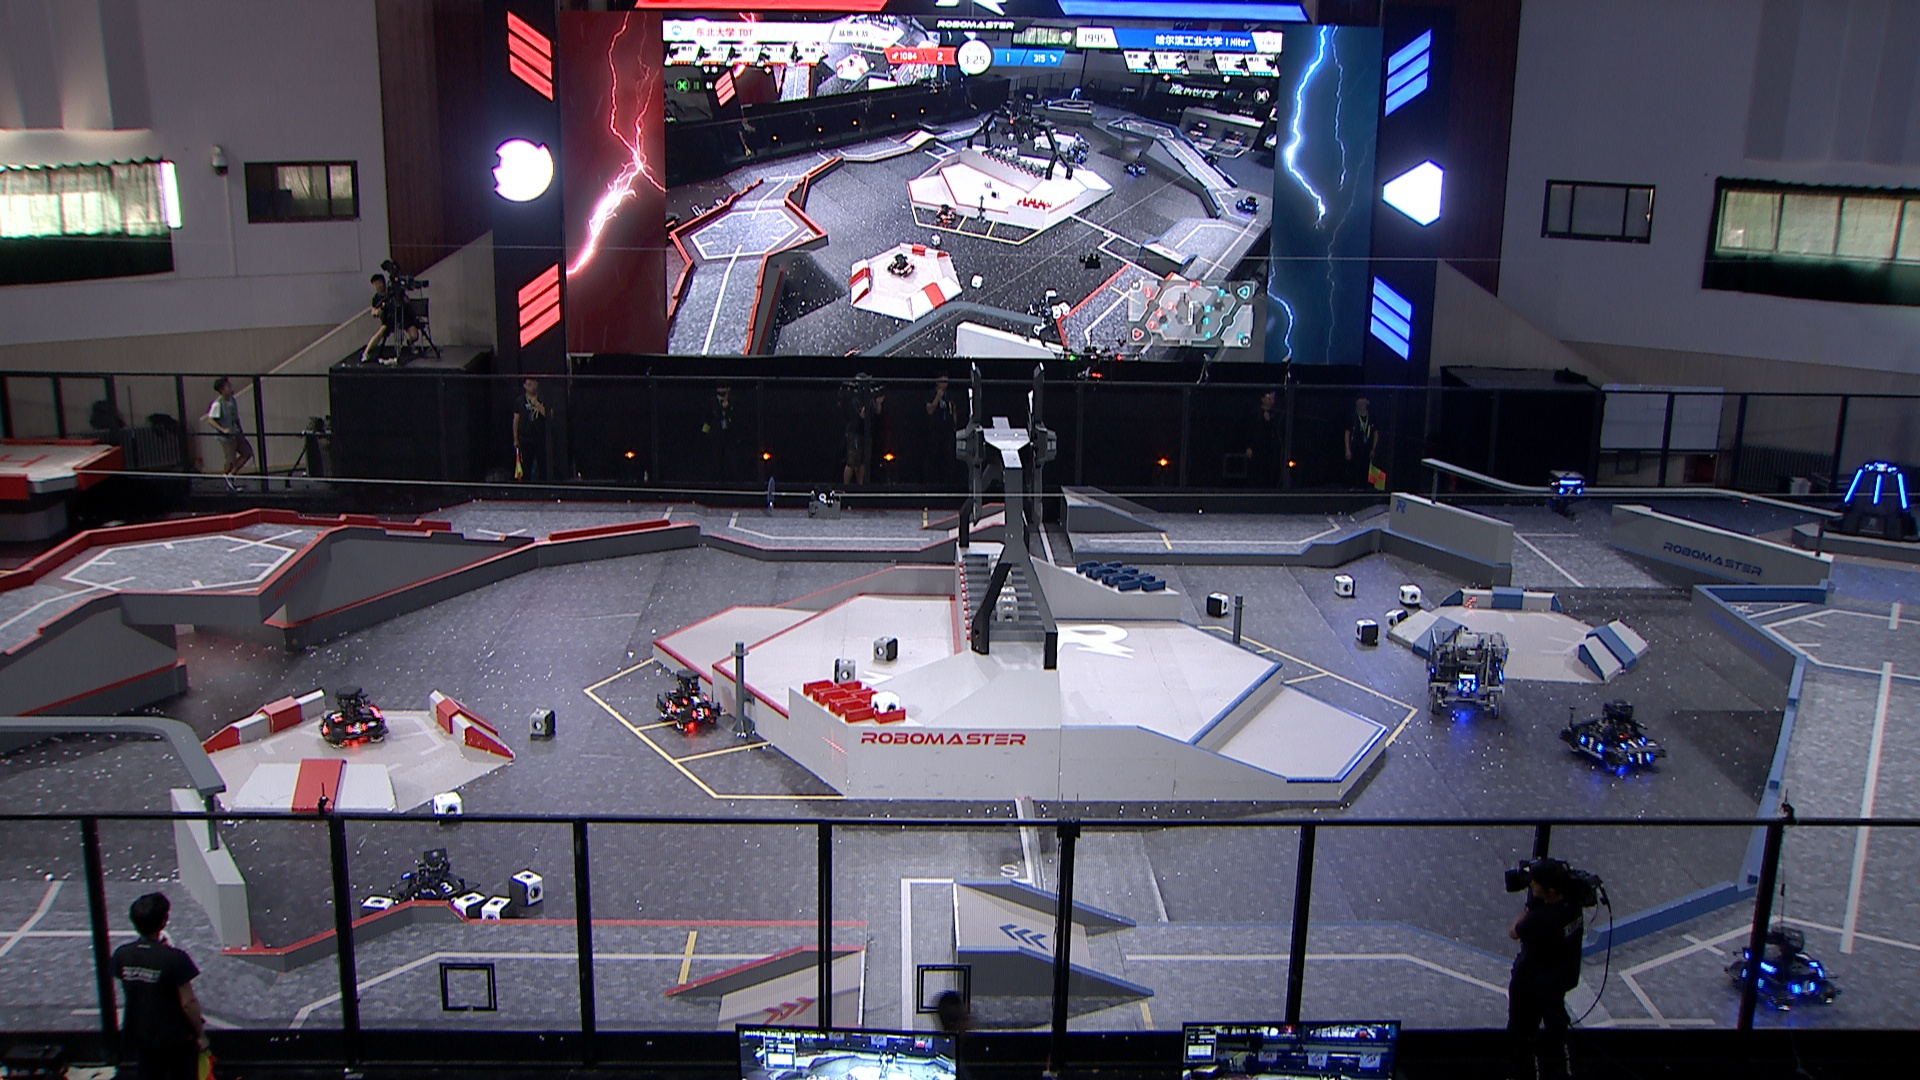armor: (1840, 465, 1865, 504), (433, 876, 460, 897), (1577, 732, 1604, 752), (1792, 981, 1818, 998), (1898, 473, 1908, 509), (1871, 473, 1883, 505), (683, 694, 708, 708), (1627, 750, 1652, 764), (1457, 678, 1477, 694), (344, 721, 367, 735), (1795, 949, 1813, 965), (1621, 736, 1640, 750), (1869, 462, 1892, 472), (314, 719, 330, 735), (1557, 485, 1580, 496), (690, 708, 709, 719), (327, 707, 343, 719), (665, 699, 676, 713)
base: (1820, 452, 1920, 541)
car: (1731, 915, 1840, 1015), (1422, 621, 1505, 725), (1564, 698, 1665, 777), (394, 847, 476, 913), (313, 684, 392, 750), (655, 669, 723, 733)
ignore: (694, 191, 727, 219), (1060, 135, 1091, 164), (887, 255, 920, 280), (659, 210, 680, 243), (932, 202, 961, 225), (1122, 154, 1149, 175), (1237, 196, 1261, 215), (1065, 86, 1084, 105), (844, 345, 864, 356)
watcher: (1542, 467, 1593, 524)
